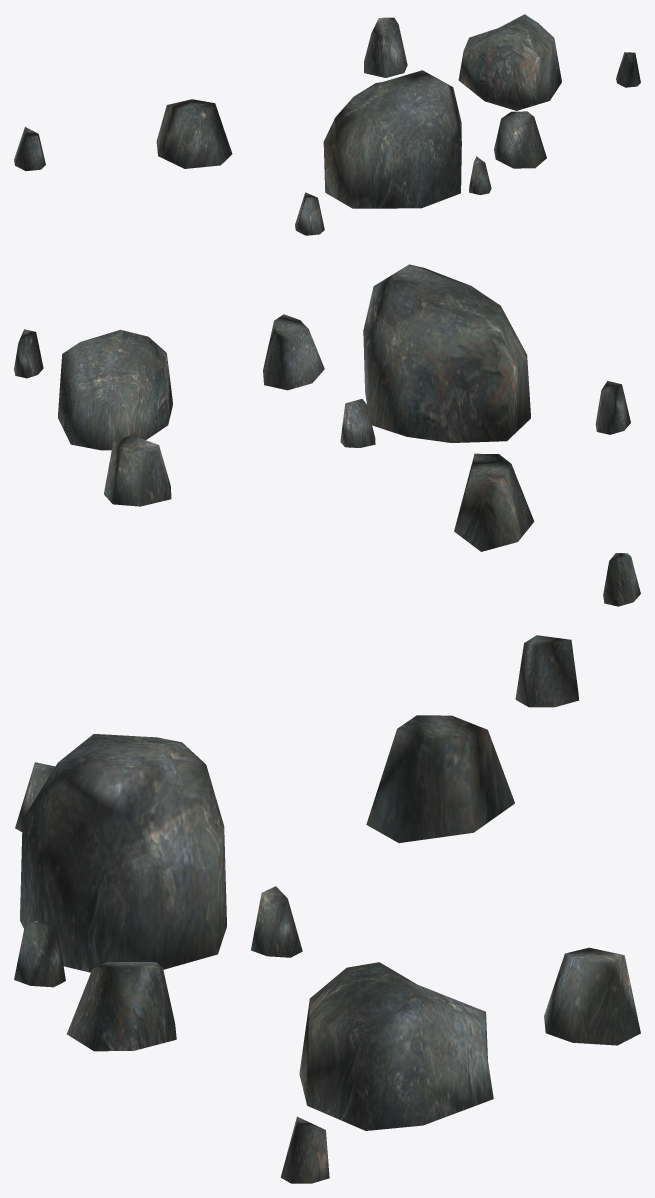
File: RockS003_lod2.glb
The picture shows the model from 3 angles, top to bottom: view 1: azimuth 30°, elevation 25°; view 2: azimuth 150°, elevation 25°; view 3: azimuth 270°, elevation 25°; orthographic projection. The views are drawn at different scales.
Visible parts, largest first — view 1: rock_s003_lod2; view 2: rock_s003_lod2; view 3: rock_s003_lod2.
Part boxes in pixels (x1,y1,x2,y2): rock_s003_lod2: (14, 14, 640, 235); rock_s003_lod2: (14, 264, 640, 606); rock_s003_lod2: (14, 635, 640, 1183).
Size of the model in its own units: 3.2 by 0.5603 by 1.7.
Materials: 1 (1 with a texture image).
